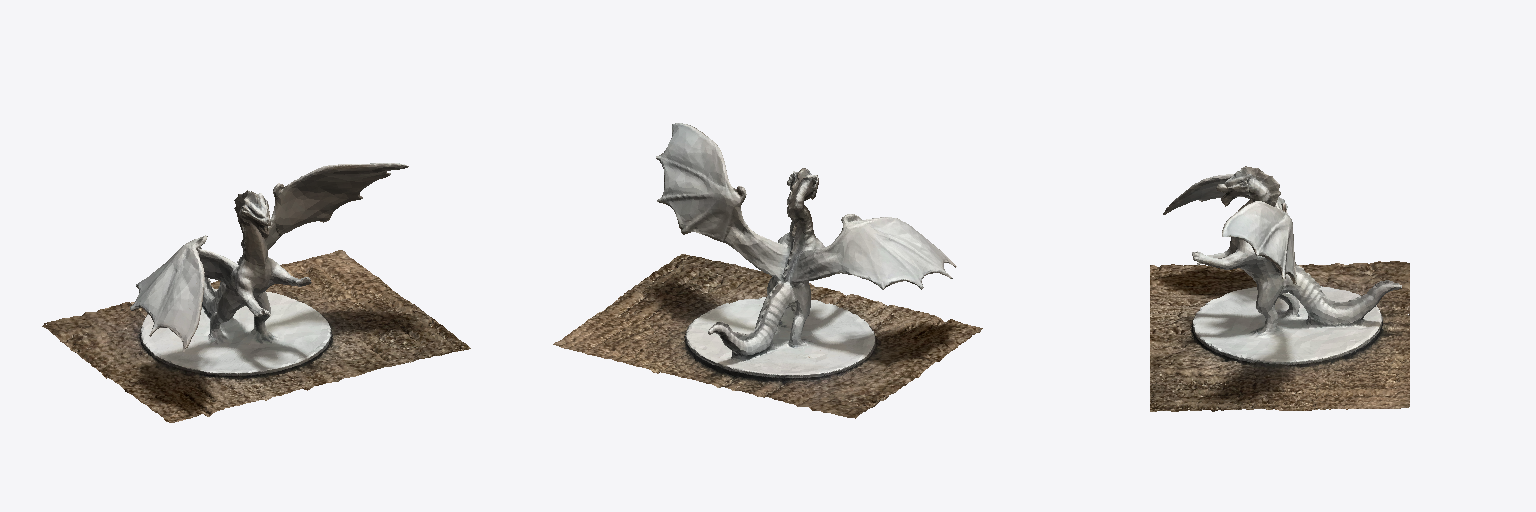
3 renders of one model, left to right at view 1: azimuth 30°, elevation 25°; view 2: azimuth 150°, elevation 25°; view 3: azimuth 270°, elevation 25°, orthographic.
Parts seen in each view (by area): view 1: Object; view 2: Object; view 3: Object.
Boxes of the visible parts, <box> form: Object: <box>42,163,470,422</box>; Object: <box>553,123,982,418</box>; Object: <box>1150,166,1409,411</box>.
Bounding box in the file's own units: 0.8362 × 0.4575 × 0.6232.
Materials: 1 (1 with a texture image).